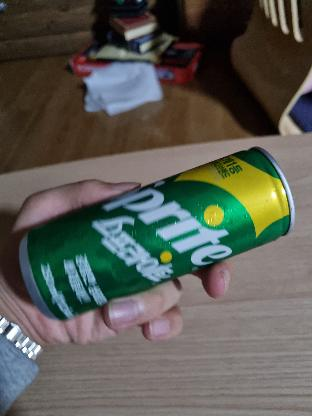Can: (21, 141, 292, 315)
